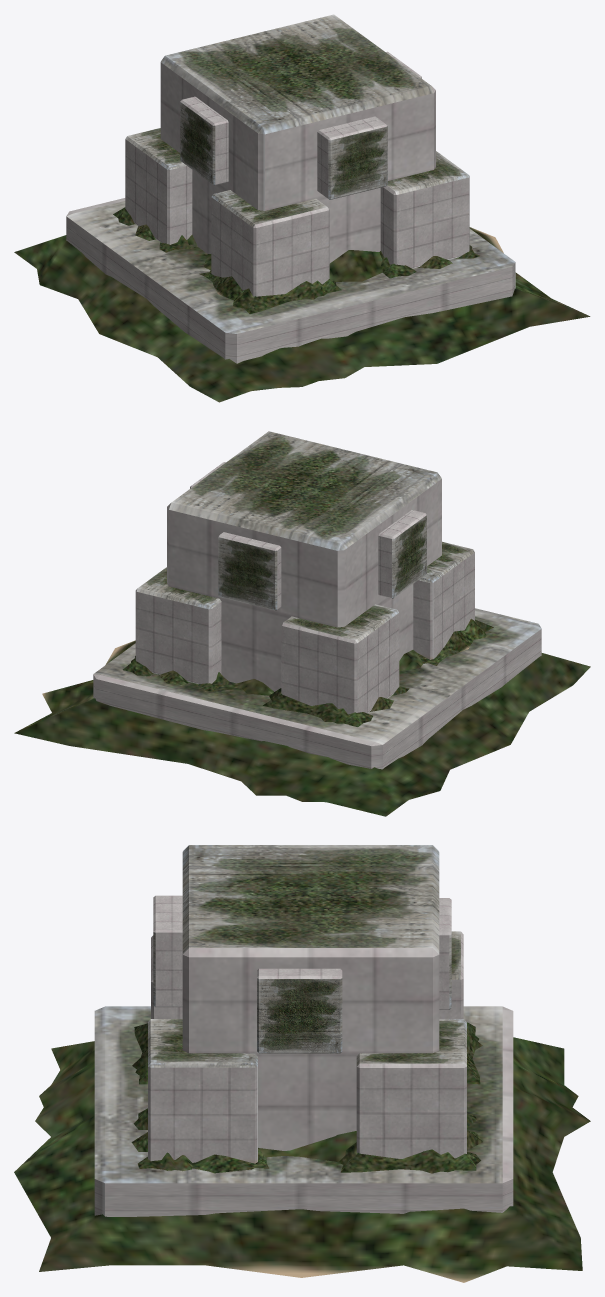
File: Temple.fbx
3 views of the same model, one above another, from view 1: azimuth 30°, elevation 25°; view 2: azimuth 150°, elevation 25°; view 3: azimuth 270°, elevation 25° (orthographic). The views are drawn at different scales.
Visible parts, largest first — view 1: TDHus_II10; view 2: TDHus_II10; view 3: TDHus_II10.
Part boxes in pixels (bbox=[...]): TDHus_II10: bbox=[14, 14, 590, 402]; TDHus_II10: bbox=[14, 431, 590, 816]; TDHus_II10: bbox=[14, 845, 590, 1282].
Size of the model in its own units: 104 by 51.78 by 103.
Materials: 1 (1 with a texture image).
